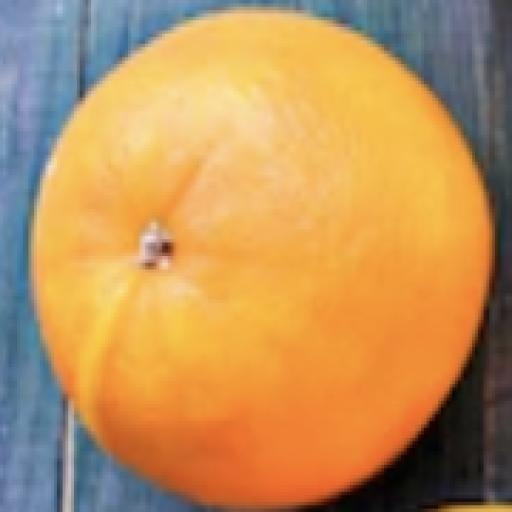orange: (32, 11, 492, 508)
